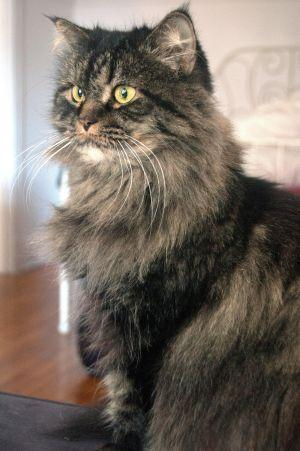persian: (37, 7, 218, 188)
